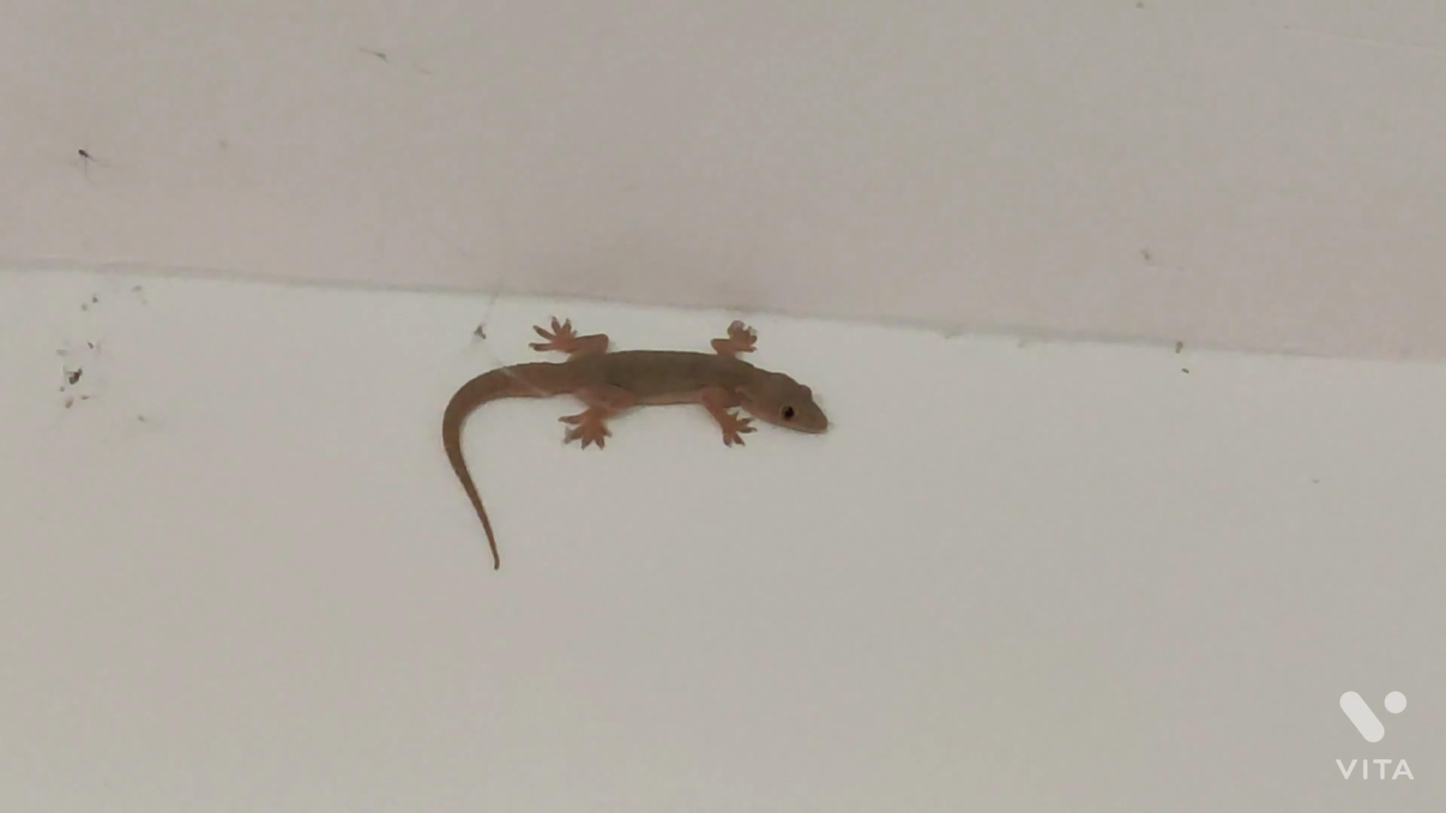lizard: (415, 298, 837, 571)
